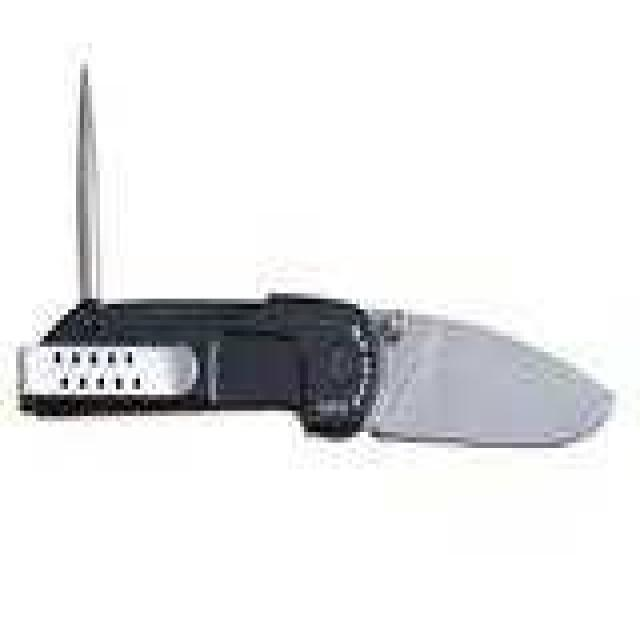Knife: (18, 48, 619, 456)
